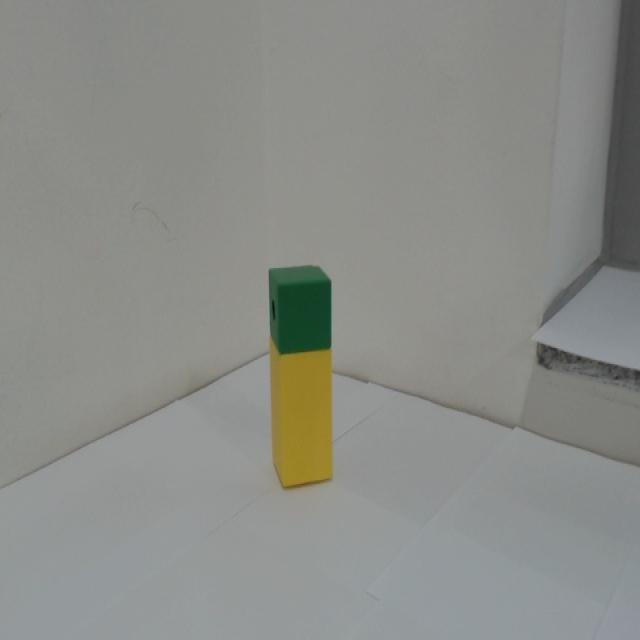cube: (268, 259, 333, 355)
